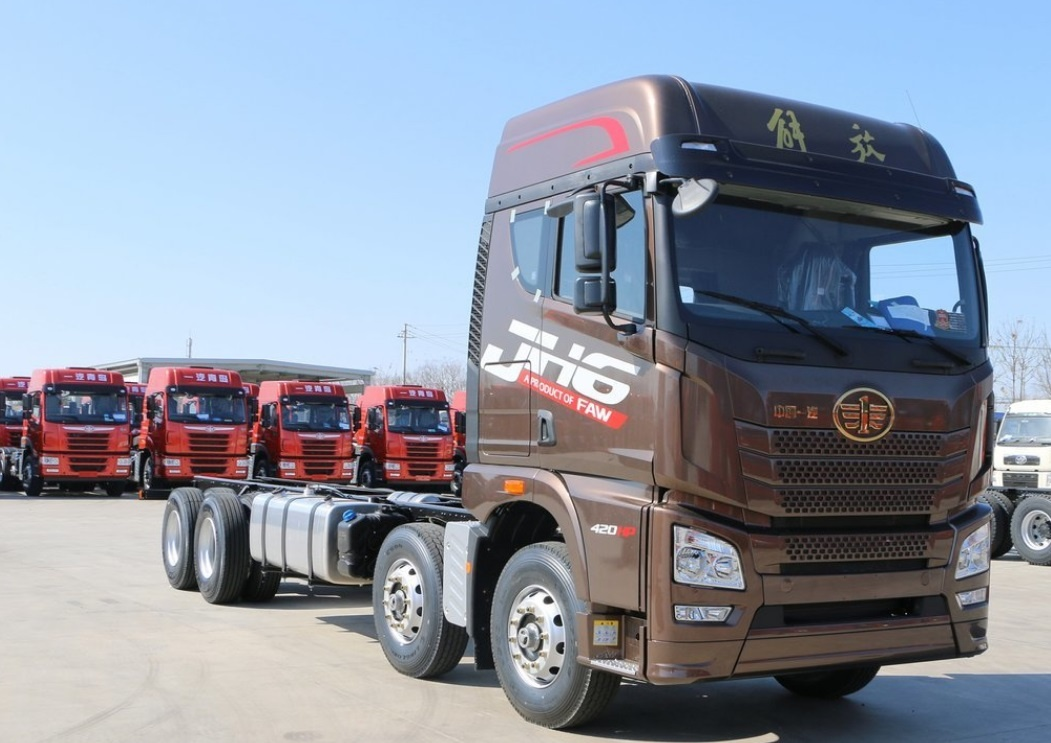heavy truck: (170, 68, 998, 723)
